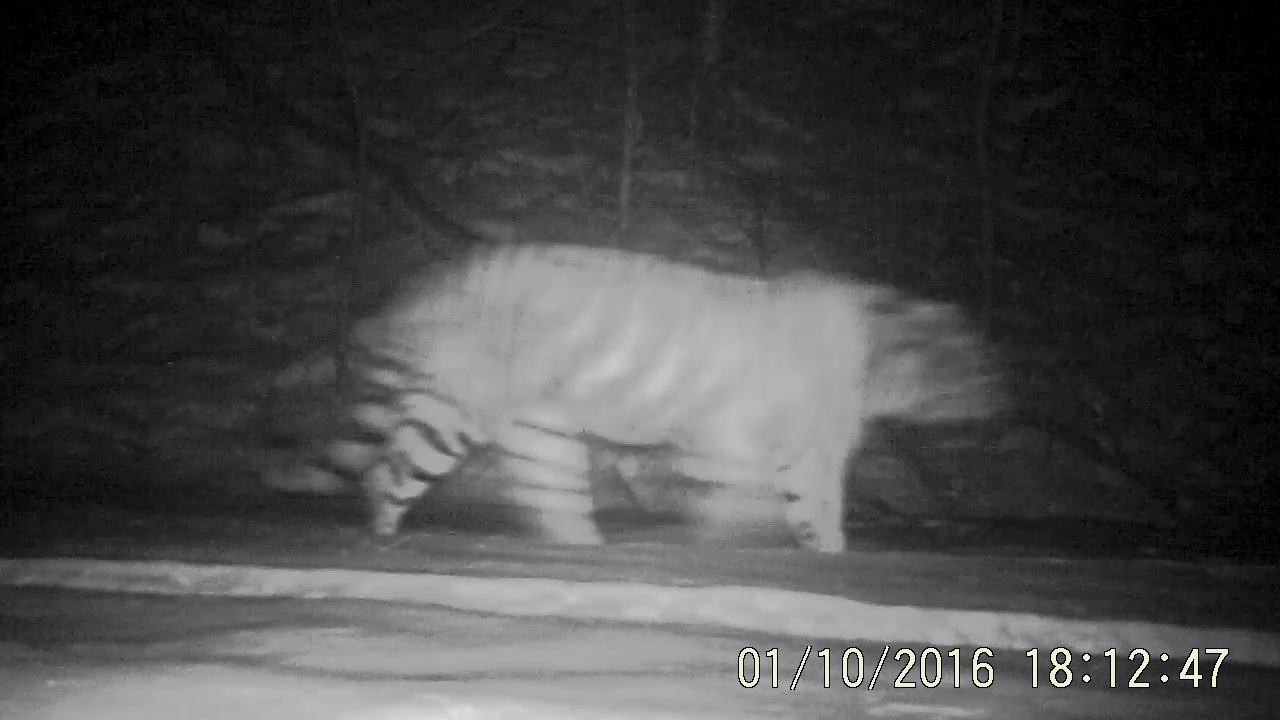Tiger: (253, 132, 1045, 584)
